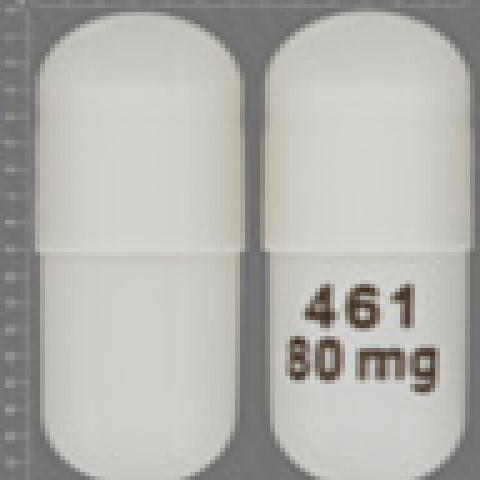Pill: (20, 4, 250, 480), (254, 8, 473, 477)
